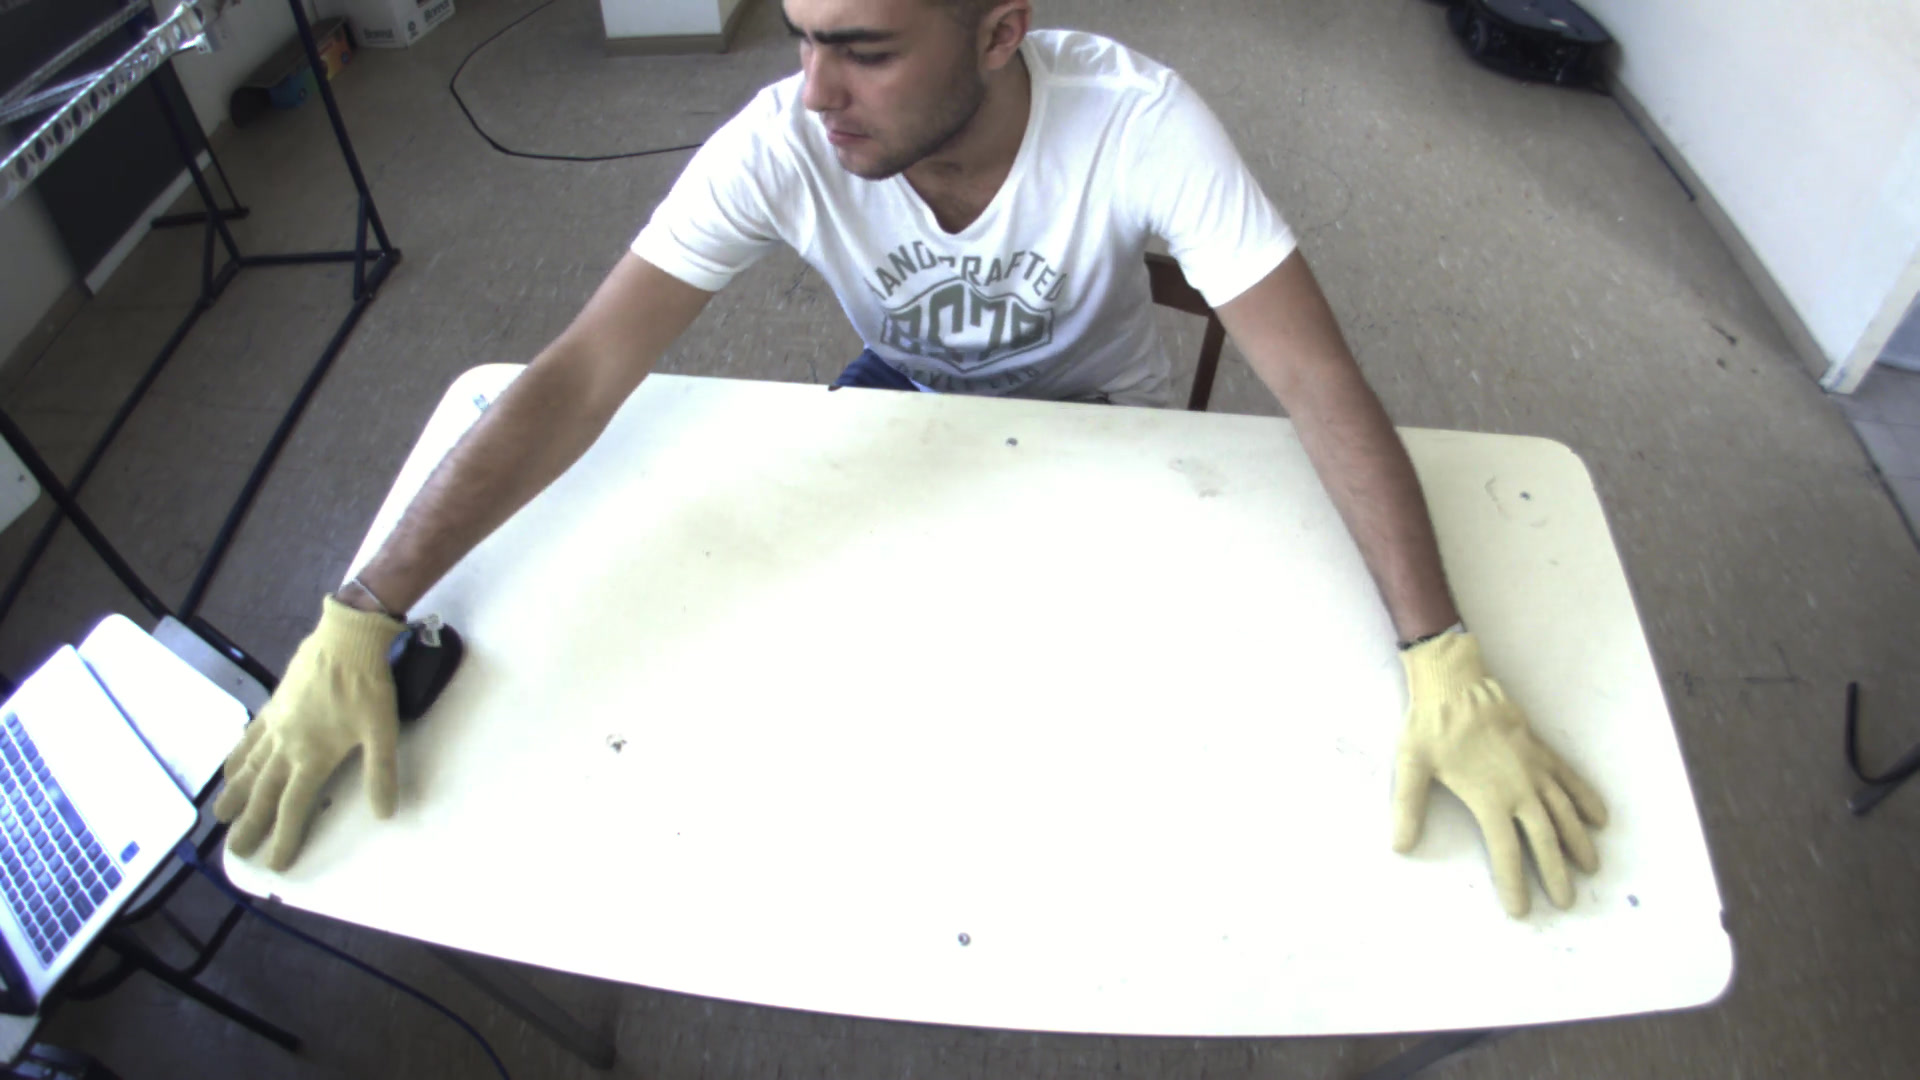hand: (1383, 626, 1630, 927), (189, 588, 425, 884)
